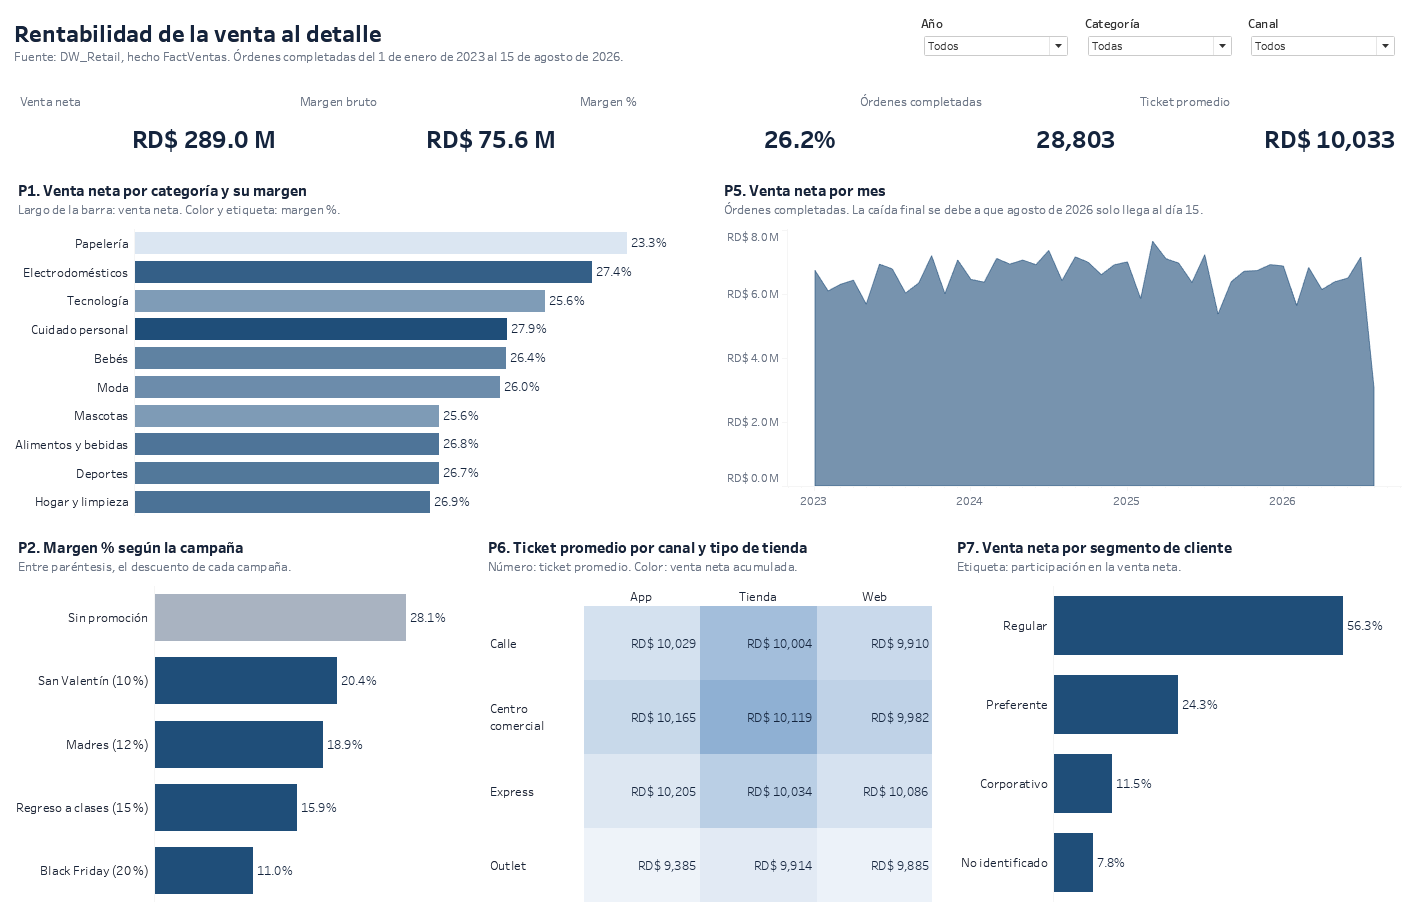

This screenshot's page, from the dashboard's own definition file:
{"tool":"tableau","page":{"name":"Rentabilidad de la venta","canvas":[1400,900],"ordinal":0},"visuals":[{"type":"text","box":[11.2,5.4,840,66.6]},{"type":"parameter","param":"[Parameters].[p_anio]","box":[905.8,8.1,155.4,61.2]},{"type":"parameter","param":"[Parameters].[p_categoria]","box":[1066.8,8.1,155.4,61.2]},{"type":"parameter","param":"[Parameters].[p_canal]","box":[1227.8,8.1,155.4,61.2]},{"type":"worksheet","title":"V KPI venta","mark":"Text","box":[11.2,77.4,275.5,82.8]},{"type":"worksheet","title":"V KPI margen","mark":"Text","box":[286.7,77.4,275.5,82.8]},{"type":"worksheet","title":"V KPI margen %","mark":"Text","box":[562.2,77.4,275.5,82.8]},{"type":"worksheet","title":"V KPI ordenes","mark":"Text","box":[837.8,77.4,275.5,82.8]},{"type":"worksheet","title":"V KPI ticket","mark":"Text","box":[1113.3,77.4,275.5,82.8]},{"type":"worksheet","title":"Categorias","mark":"Bar","rows":["Categoria"],"cols":["MontoNeto"],"box":[11.2,165.6,683.2,347.4]},{"type":"worksheet","title":"Mensual","mark":"Area","rows":["VentaM"],"cols":["Fecha"],"box":[705.6,165.6,683.2,347.4]},{"type":"worksheet","title":"Promociones","mark":"Bar","rows":["Campana"],"cols":["MargenPct"],"box":[11.2,518.4,453.6,376.2]},{"type":"worksheet","title":"Canales","mark":"Square","rows":["TipoTienda"],"cols":["CanalVenta"],"box":[473.2,518.4,453.6,376.2]},{"type":"worksheet","title":"Segmentos","mark":"Bar","rows":["Segmento"],"cols":["MontoNeto"],"box":[935.2,518.4,453.6,376.2]}]}

Visuals, with their boxes in screenshot pixels (x1, y1, x2, y2), scaled from the page's 1400x900 canvas onto the 1416x916 screenshot:
text: locate(11, 5, 861, 73)
parameter: locate(916, 8, 1073, 71)
parameter: locate(1079, 8, 1236, 71)
parameter: locate(1242, 8, 1399, 71)
"V KPI venta" worksheet (Text marks): locate(11, 79, 290, 163)
"V KPI margen" worksheet (Text marks): locate(290, 79, 569, 163)
"V KPI margen %" worksheet (Text marks): locate(569, 79, 847, 163)
"V KPI ordenes" worksheet (Text marks): locate(847, 79, 1126, 163)
"V KPI ticket" worksheet (Text marks): locate(1126, 79, 1405, 163)
"Categorias" worksheet (Bar marks): locate(11, 169, 702, 522)
"Mensual" worksheet (Area marks): locate(714, 169, 1405, 522)
"Promociones" worksheet (Bar marks): locate(11, 528, 470, 911)
"Canales" worksheet (Square marks): locate(479, 528, 937, 911)
"Segmentos" worksheet (Bar marks): locate(946, 528, 1405, 911)
